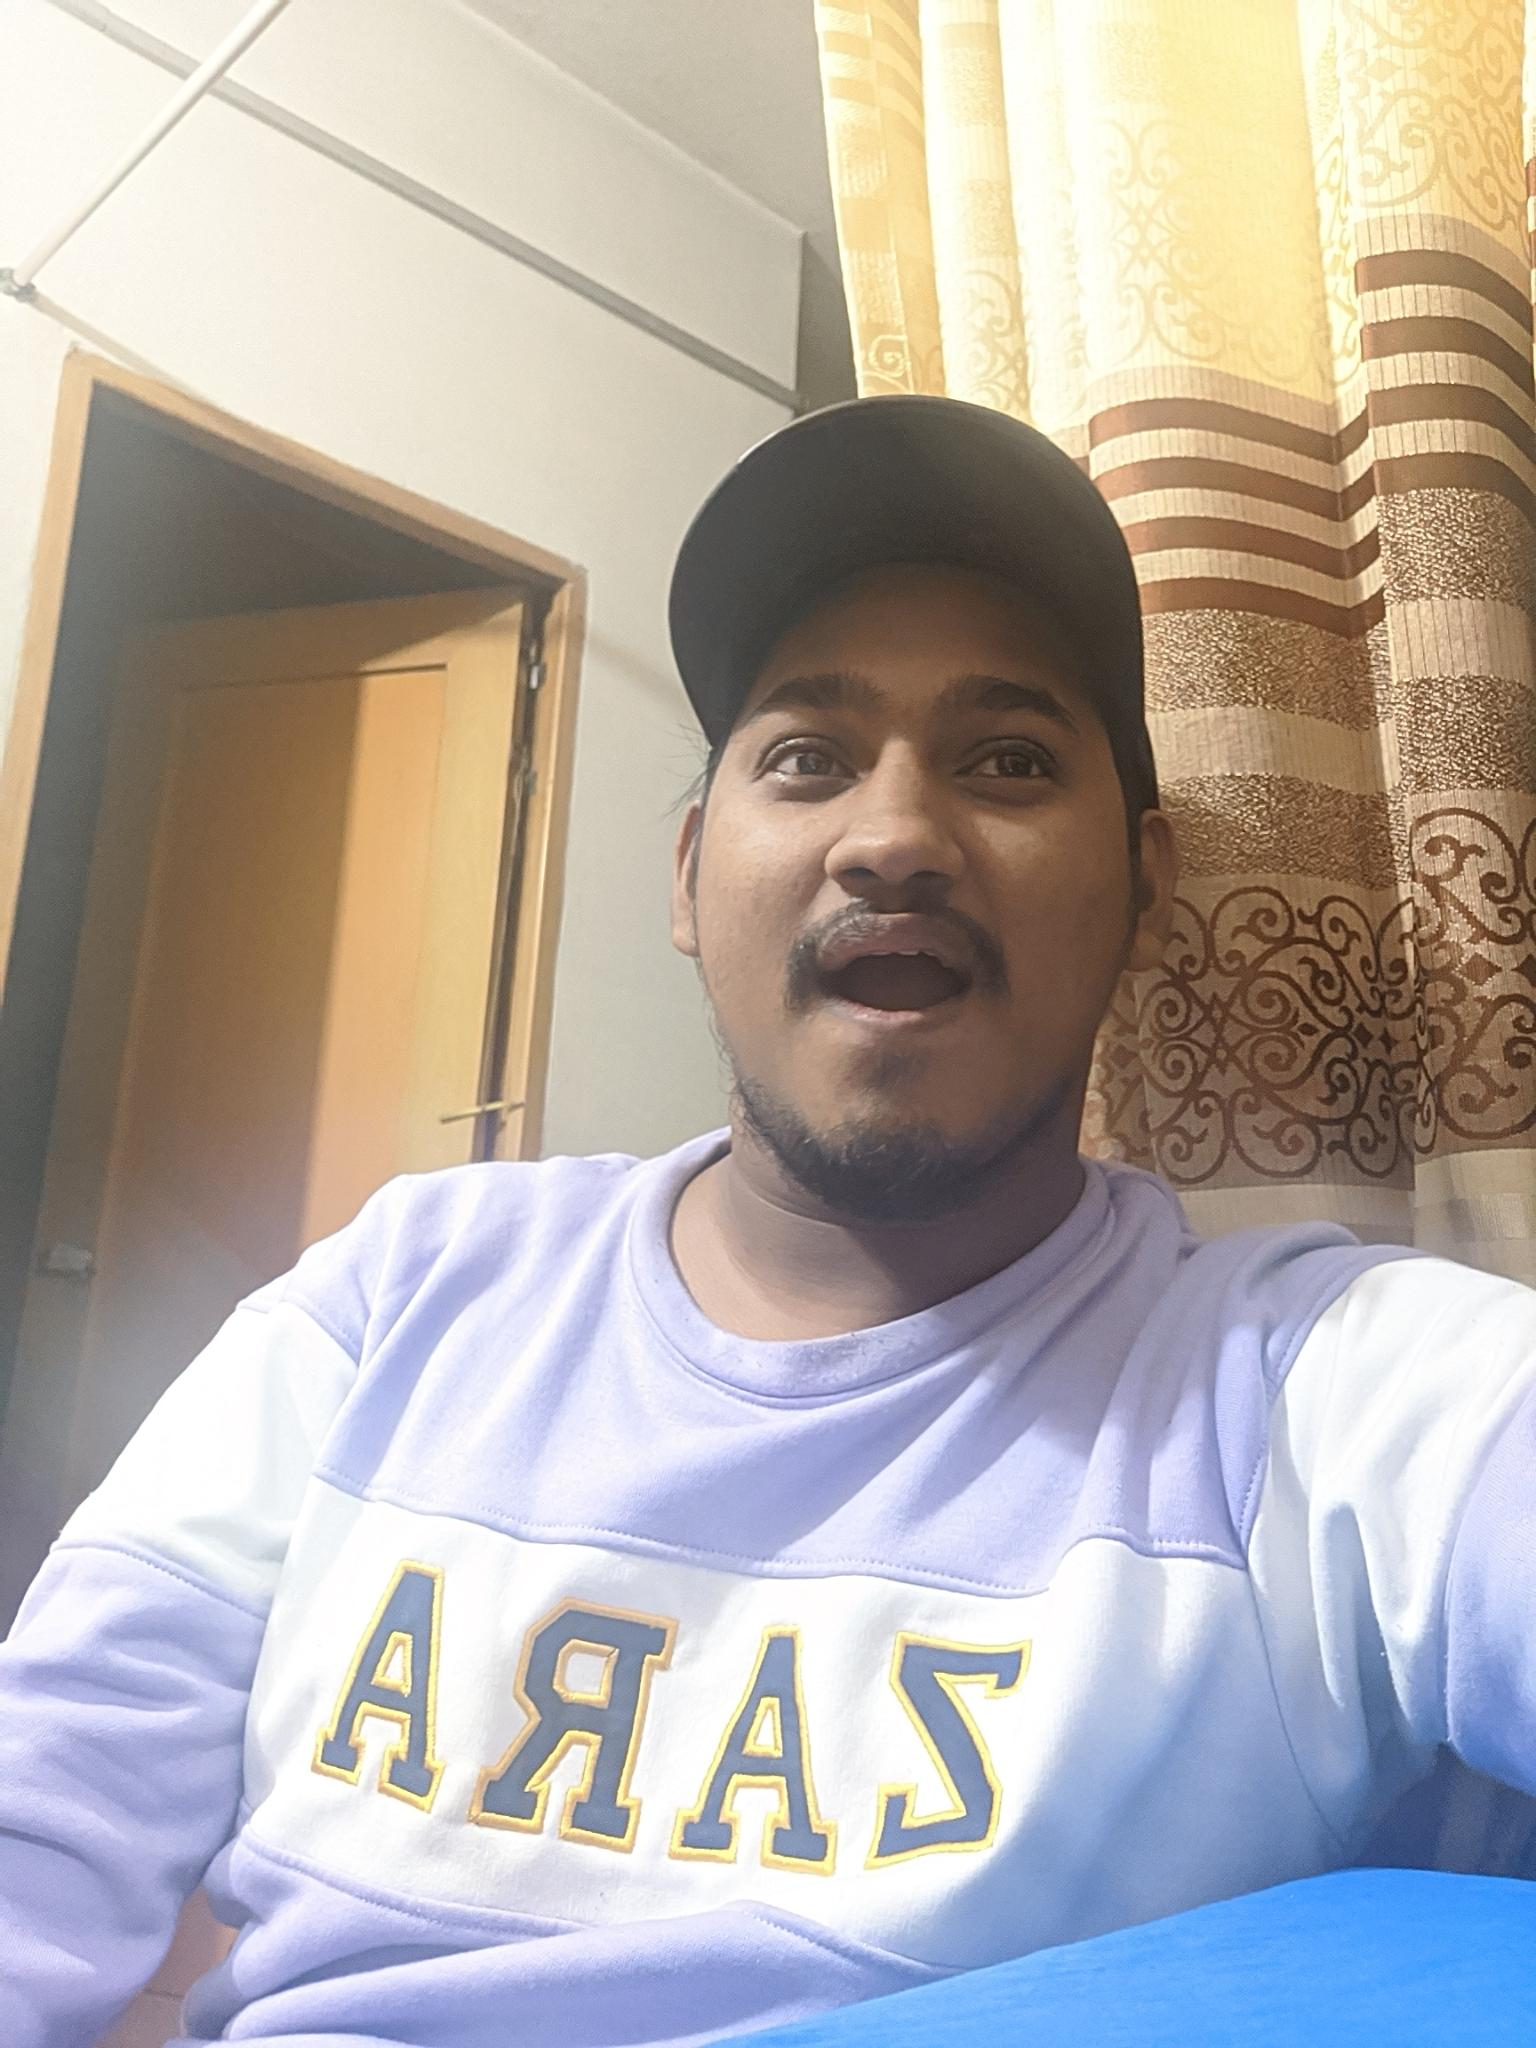Surprise: (691, 619, 1137, 1159)
